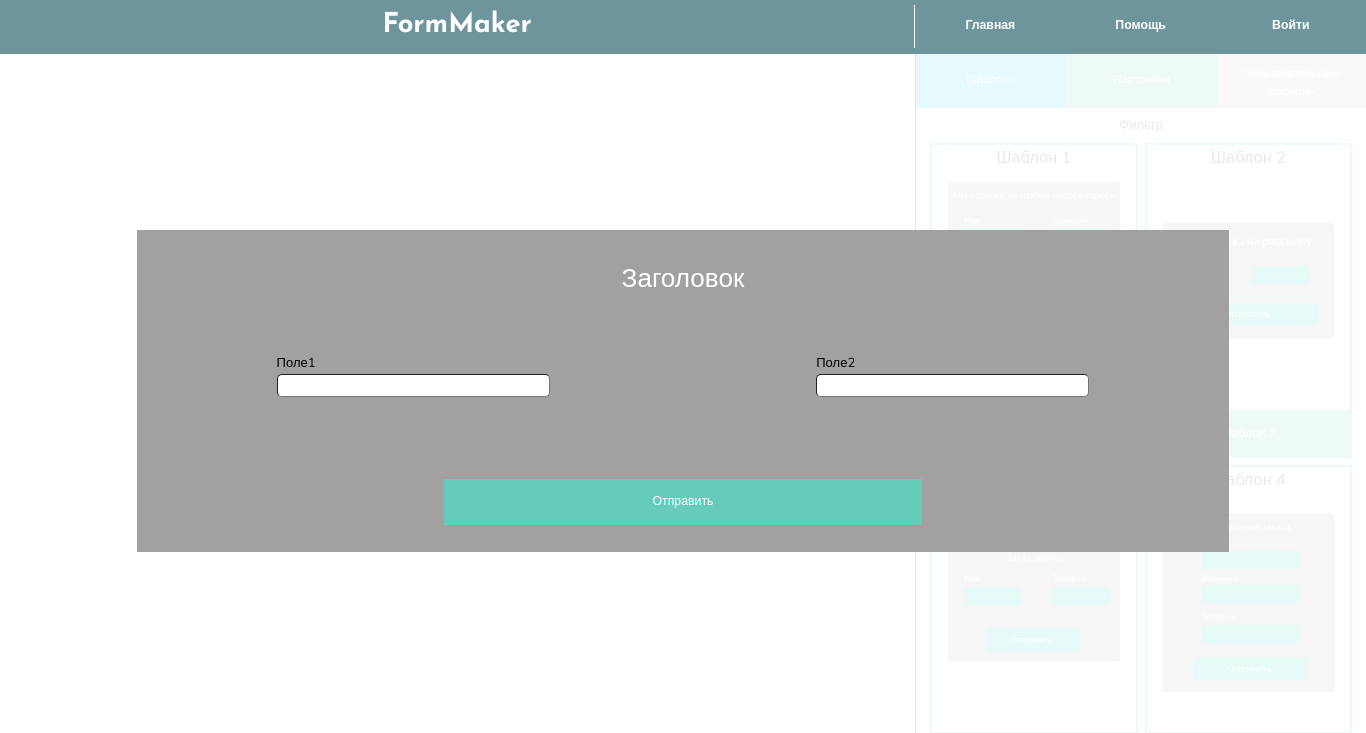
Scenario: auth › check auth and redirect after auth
Click the link "Войти": (1291, 26) [1272,20,1310,32]
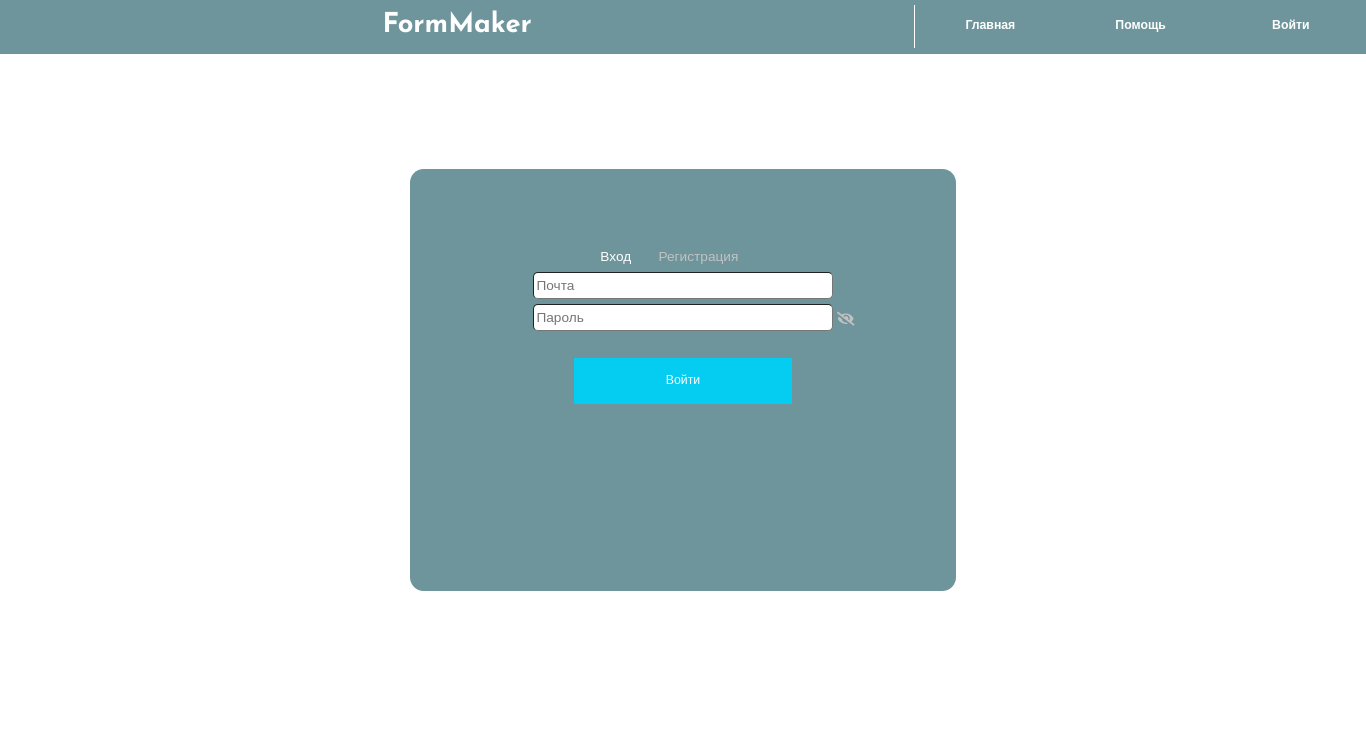
In the field with placeholder "Почта": (683, 286) [533,272,833,299], type "alex@gmail.com"
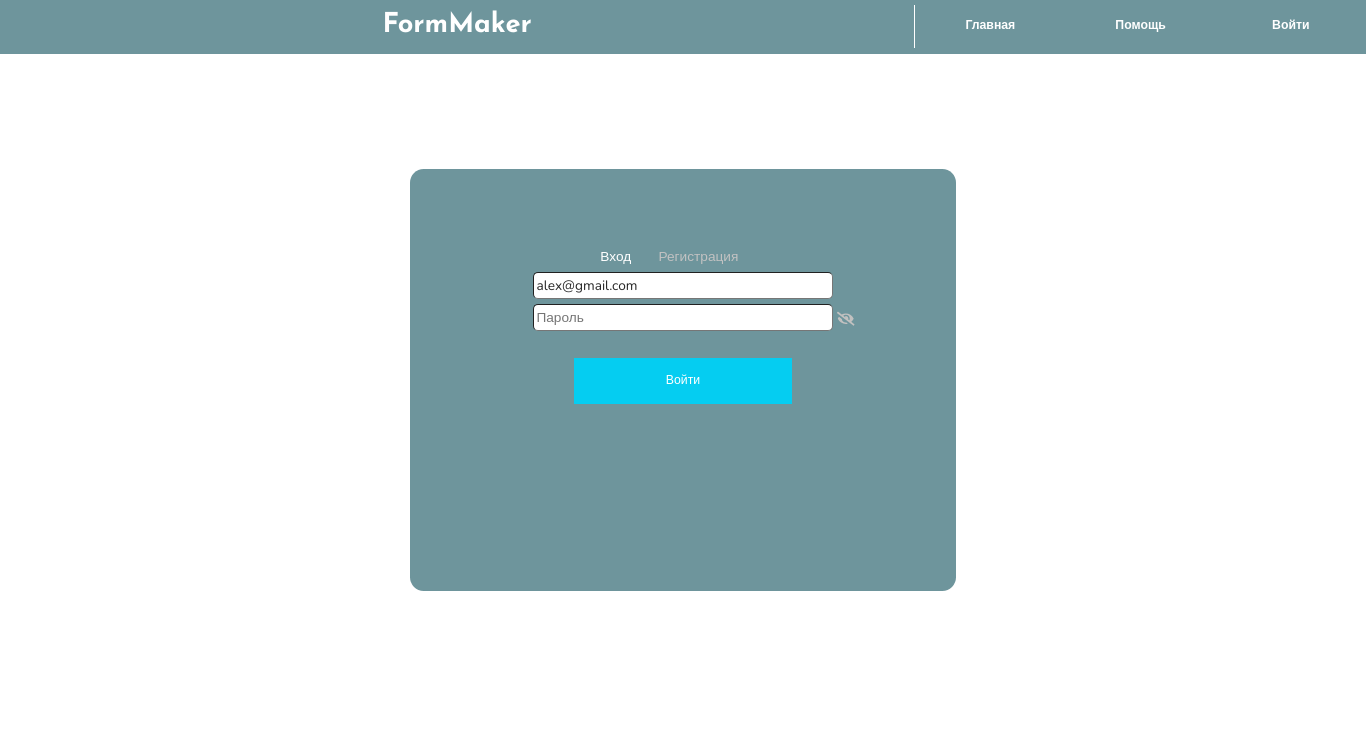
In the password field with placeholder "Пароль": (683, 317) [533,304,833,331], type "12"
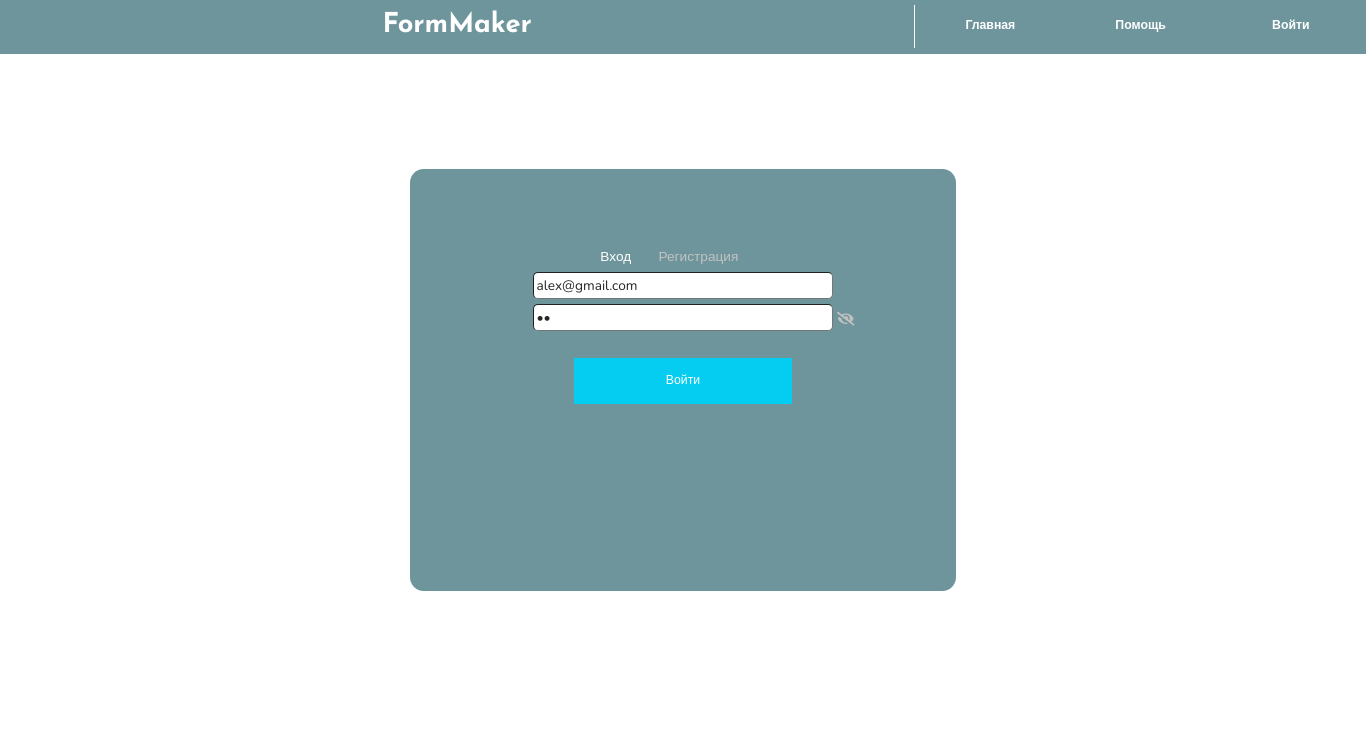
Click the button: (683, 381) [574,358,792,404]
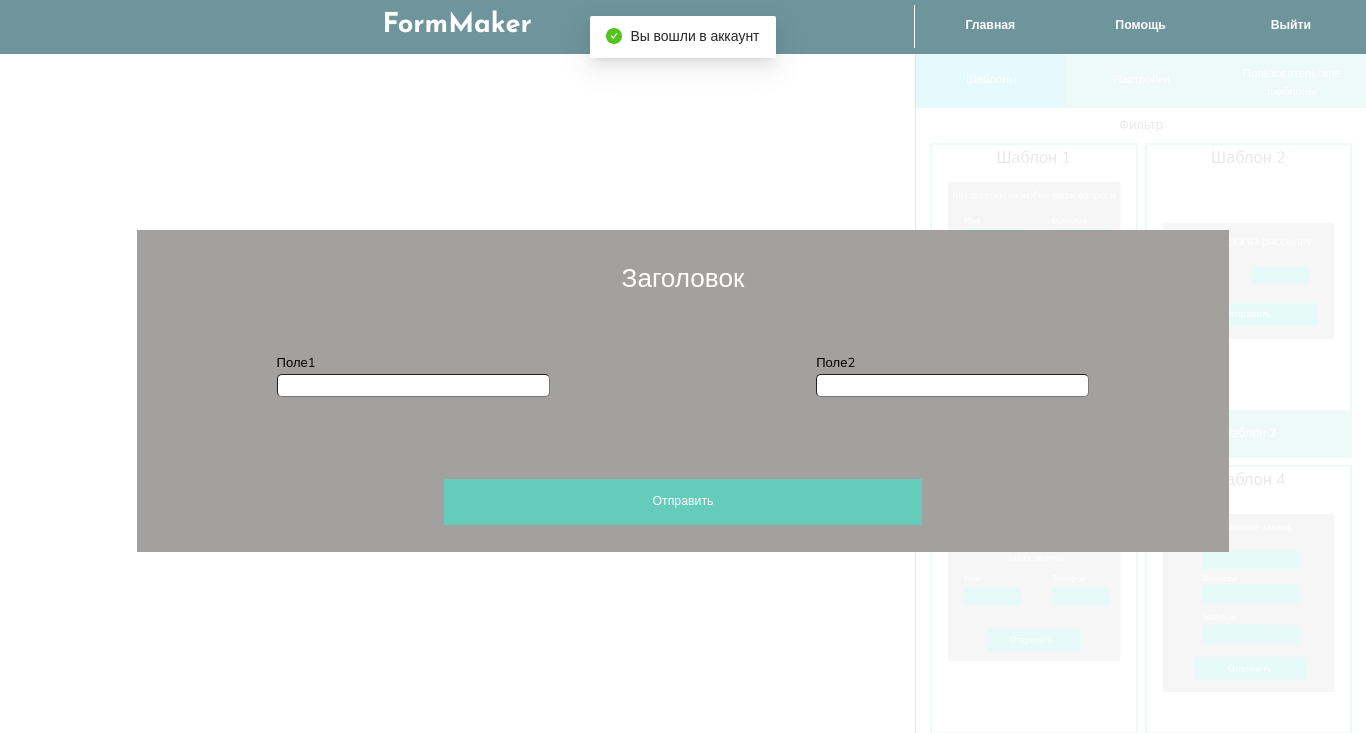
Check: the button "Пользовательские шаблоны" is enabled, box [1243,54,1341,101]
Check: the text "Вы вошли в аккаунт" is shown, box [630,27,760,46]
